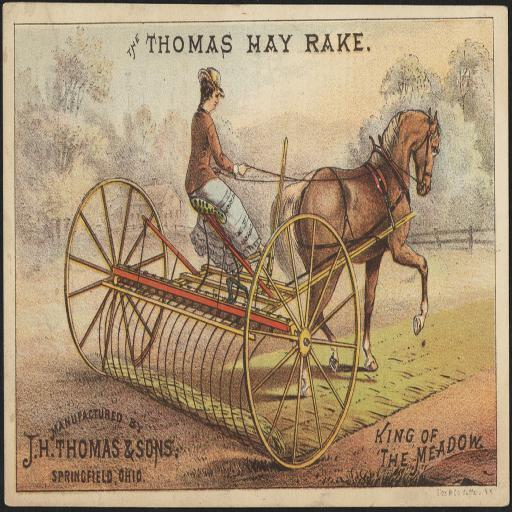horse: (267, 106, 443, 370)
